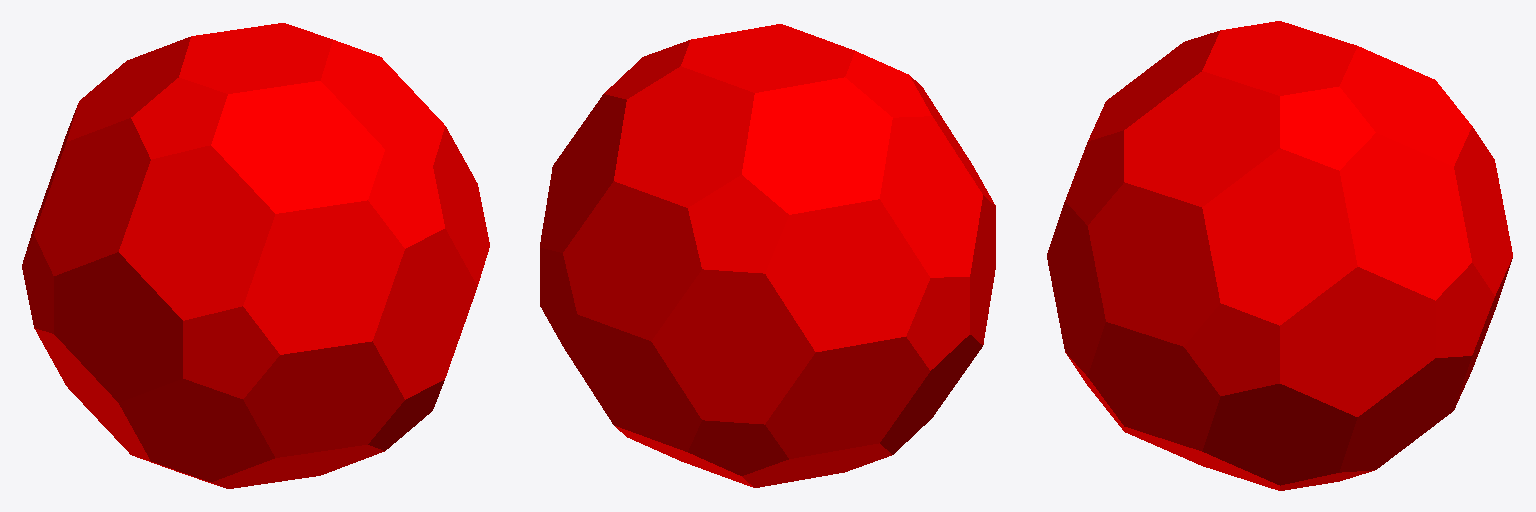
Rendered from testvc.obj.
3 renders of one model, left to right at view 1: azimuth 30°, elevation 25°; view 2: azimuth 150°, elevation 25°; view 3: azimuth 270°, elevation 25°, orthographic.
Visible parts, largest first — view 1: 0; view 2: 0; view 3: 0.
Part boxes in pixels (left/top/right/bottom): 0: left=22, top=23, right=489, bottom=488; 0: left=540, top=24, right=995, bottom=487; 0: left=1047, top=21, right=1512, bottom=490.
Size of the model in its own units: 453 by 424 by 453.